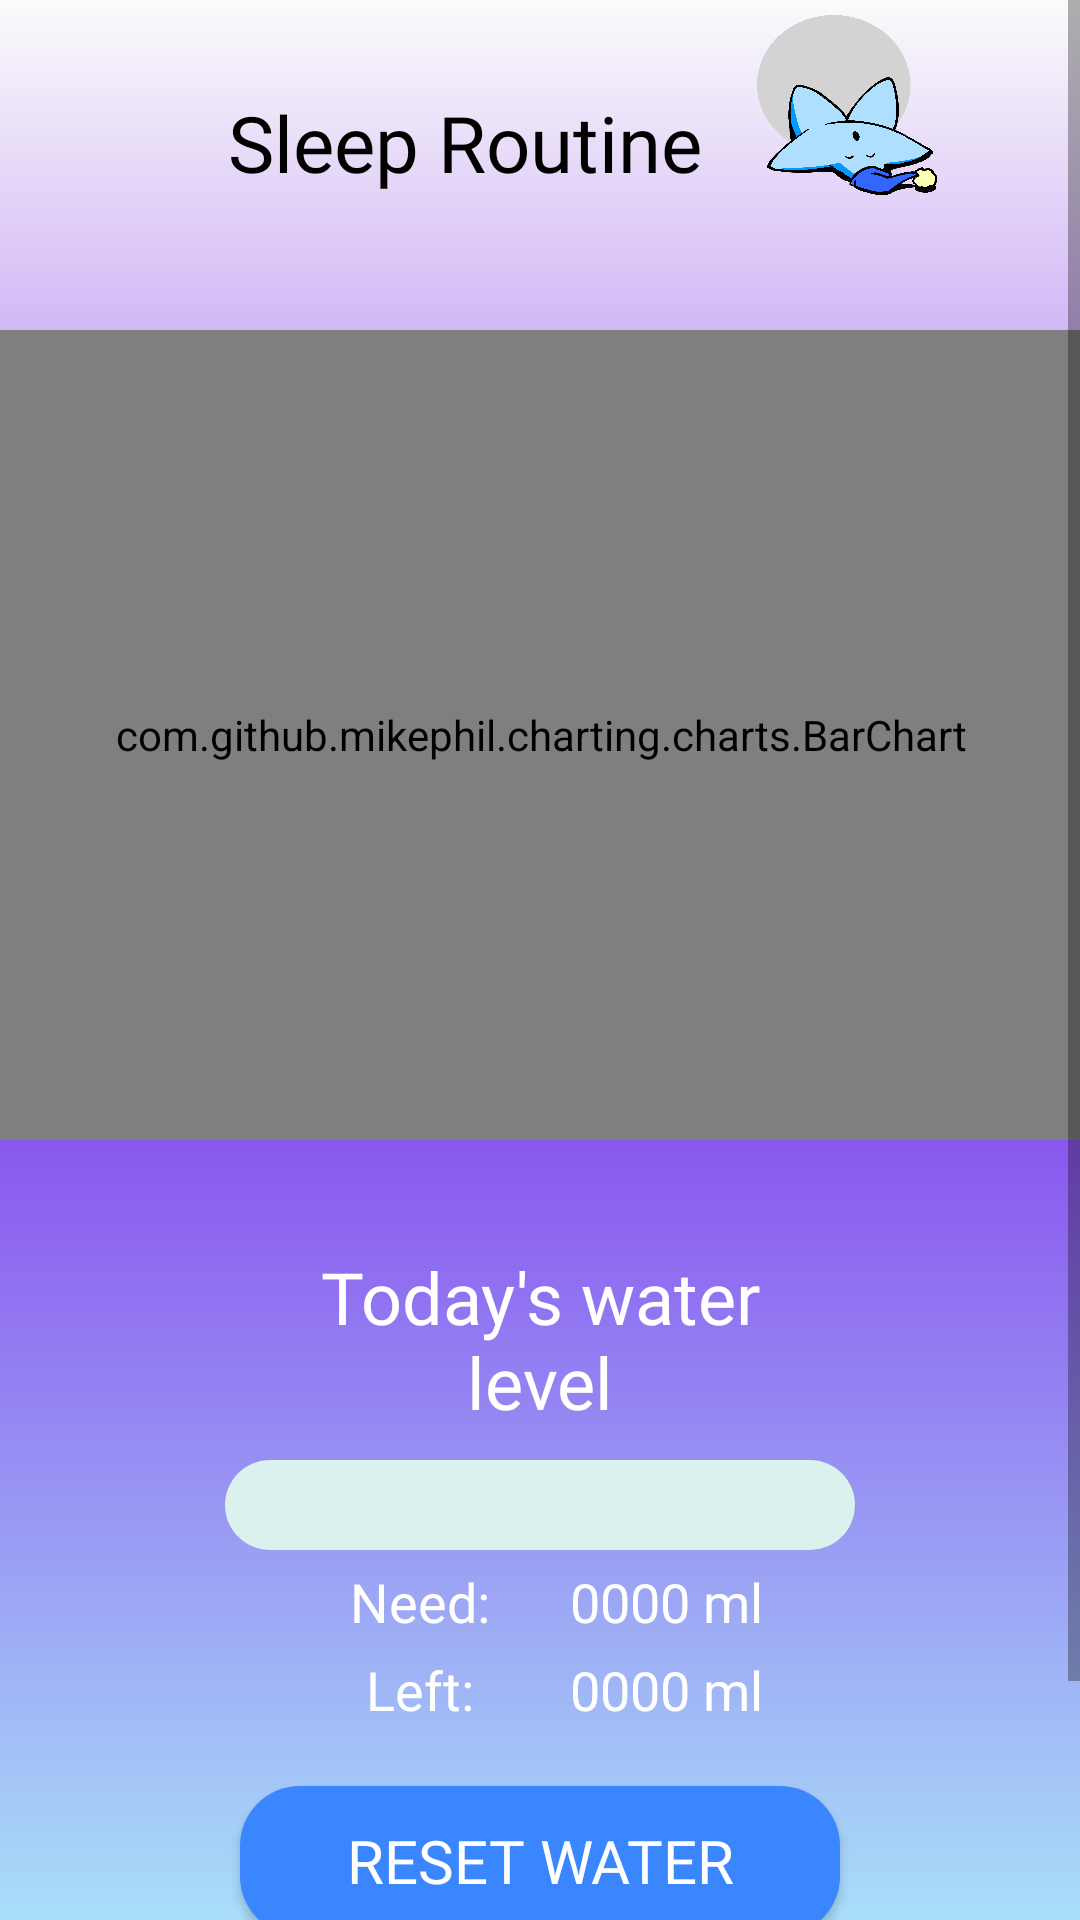

Icons on this 1080×1920 Android screen, each with the point to tap as [x,y]:
sleepstarfish: [852,105]
